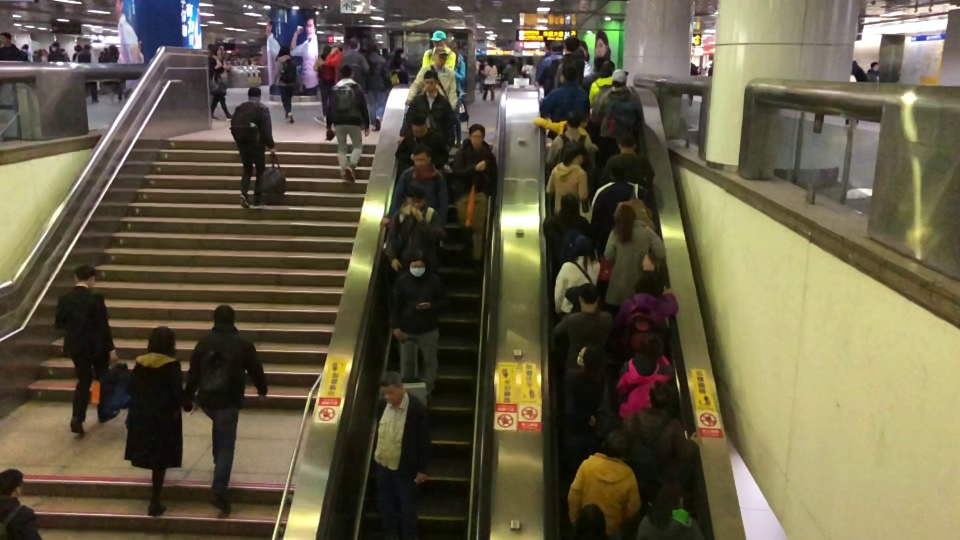person_head: (647, 480, 685, 524), (574, 502, 607, 540), (612, 203, 638, 245), (379, 369, 405, 408), (574, 343, 605, 374), (147, 326, 177, 357), (633, 271, 665, 299), (648, 378, 675, 409), (600, 431, 627, 461), (0, 469, 24, 500), (561, 141, 587, 169), (577, 282, 601, 312), (568, 232, 594, 259), (639, 333, 664, 359), (607, 156, 630, 182), (407, 248, 427, 277), (72, 265, 96, 289), (412, 143, 432, 171), (405, 180, 425, 208), (214, 303, 236, 327), (559, 191, 579, 215), (468, 122, 485, 150), (409, 114, 428, 139), (617, 133, 637, 154), (611, 68, 630, 90), (559, 64, 577, 84), (432, 46, 448, 68), (429, 30, 447, 49), (598, 60, 616, 78), (567, 109, 581, 130), (564, 37, 581, 54), (446, 40, 459, 61), (578, 108, 590, 130), (339, 65, 355, 81), (247, 85, 261, 102), (549, 40, 564, 54), (593, 56, 605, 73), (0, 31, 13, 46), (349, 36, 361, 51), (544, 39, 555, 53), (332, 42, 343, 54), (276, 46, 289, 56), (322, 44, 332, 56), (869, 60, 879, 71), (213, 45, 222, 57), (73, 43, 83, 53), (368, 42, 377, 53), (578, 47, 585, 60), (50, 42, 60, 51), (486, 56, 494, 66), (84, 43, 91, 52), (509, 58, 516, 66)
person_vbox: (186, 305, 268, 515), (123, 324, 185, 515), (54, 264, 122, 433), (370, 370, 432, 540), (621, 380, 704, 505), (388, 250, 446, 407), (567, 429, 642, 539), (449, 122, 498, 267), (551, 282, 614, 391), (604, 202, 667, 307), (379, 144, 449, 238), (590, 158, 658, 252), (382, 180, 446, 273), (614, 269, 679, 359), (229, 86, 275, 208), (559, 344, 614, 445), (615, 332, 674, 426), (326, 66, 370, 184), (542, 192, 592, 287), (634, 483, 706, 540), (545, 142, 594, 223), (552, 234, 601, 311), (541, 65, 591, 139), (404, 46, 458, 112), (546, 110, 598, 178), (598, 68, 640, 152), (395, 114, 449, 171), (0, 469, 43, 539), (600, 133, 655, 186), (538, 35, 585, 97), (445, 38, 468, 147), (314, 43, 344, 125), (364, 40, 389, 131), (208, 44, 233, 121), (339, 36, 370, 96), (534, 108, 592, 140), (274, 45, 297, 124), (309, 45, 331, 116), (76, 43, 99, 104), (422, 29, 456, 70), (588, 60, 617, 107), (535, 40, 563, 85), (534, 37, 556, 86), (582, 55, 606, 96), (0, 31, 29, 61), (480, 57, 496, 103), (46, 40, 67, 64), (501, 56, 519, 83), (579, 47, 593, 79), (865, 61, 882, 86), (71, 43, 84, 63)
